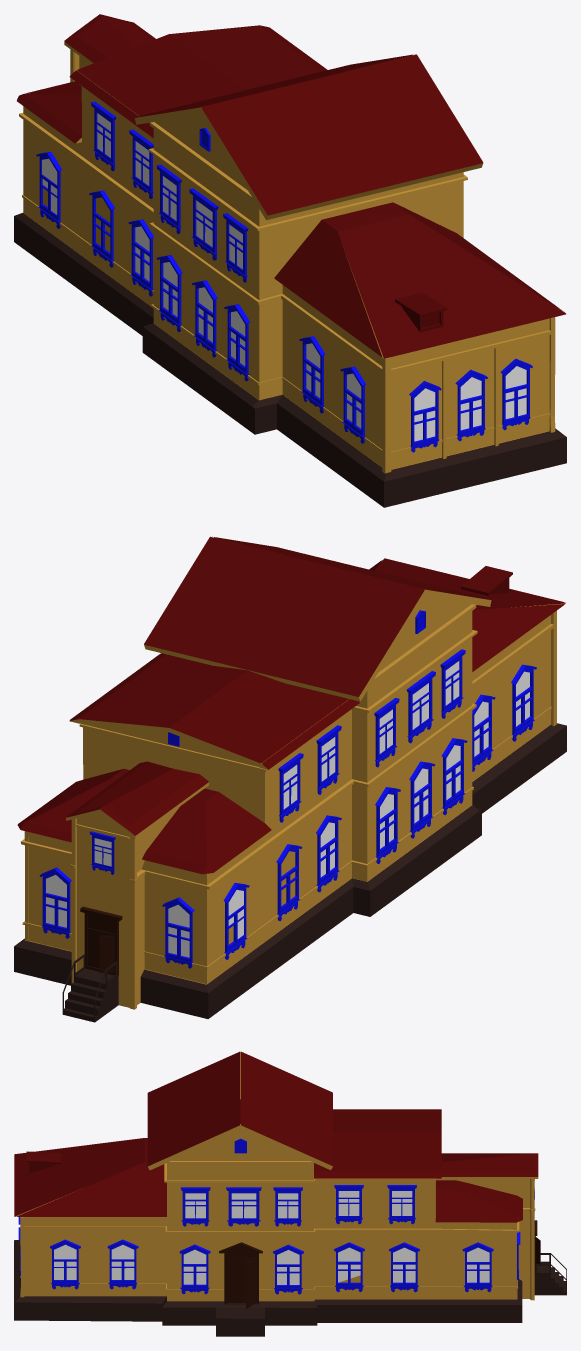
The model's file is гумрак3.obj.
The picture shows the model from 3 angles, top to bottom: view 1: azimuth 30°, elevation 25°; view 2: azimuth 150°, elevation 25°; view 3: azimuth 270°, elevation 25°; orthographic projection. The views are drawn at different scales.
Visible parts, largest first — view 1: Куб, Плоскость.009, Куб.001; view 2: Куб, Плоскость.009, Куб.002, Плоскость.023, Куб.001; view 3: Куб, Плоскость.009, Плоскость.006, Куб.002, Куб.001.
Boxes of the visible parts, x1,y1,x2,y2 form: Куб: [14, 14, 566, 507]; Плоскость.009: [36, 101, 532, 452]; Куб.001: [395, 292, 447, 332]; Куб: [14, 536, 566, 1018]; Плоскость.009: [39, 610, 536, 968]; Куб.002: [62, 954, 118, 1022]; Плоскость.023: [80, 906, 122, 975]; Куб.001: [461, 566, 512, 595]; Куб: [14, 1051, 538, 1336]; Плоскость.009: [18, 1138, 534, 1294]; Плоскость.006: [219, 1242, 262, 1308]; Куб.002: [534, 1253, 566, 1295]; Куб.001: [26, 1151, 61, 1173].
Size of the model in its own units: 8.28 by 9.01 by 22.59.
